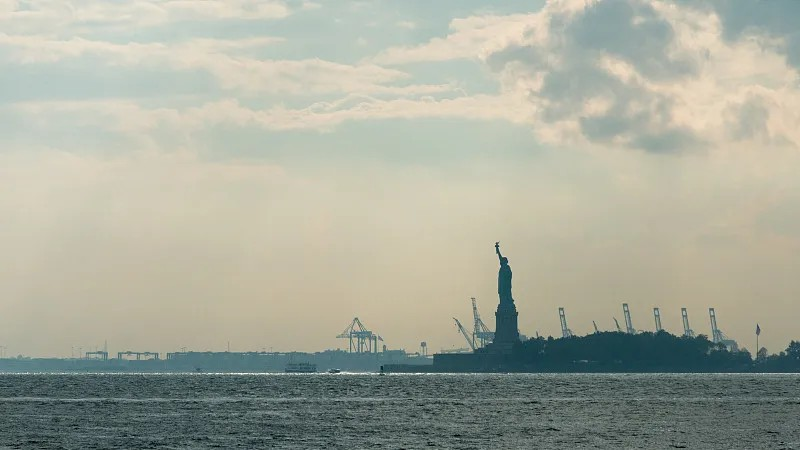SL: (486, 240, 521, 352)
